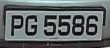5: (41, 12, 58, 37), (58, 13, 72, 36)
6: (85, 14, 100, 36)
8: (72, 13, 85, 37)
G: (24, 13, 39, 38)
P: (9, 12, 25, 37)
